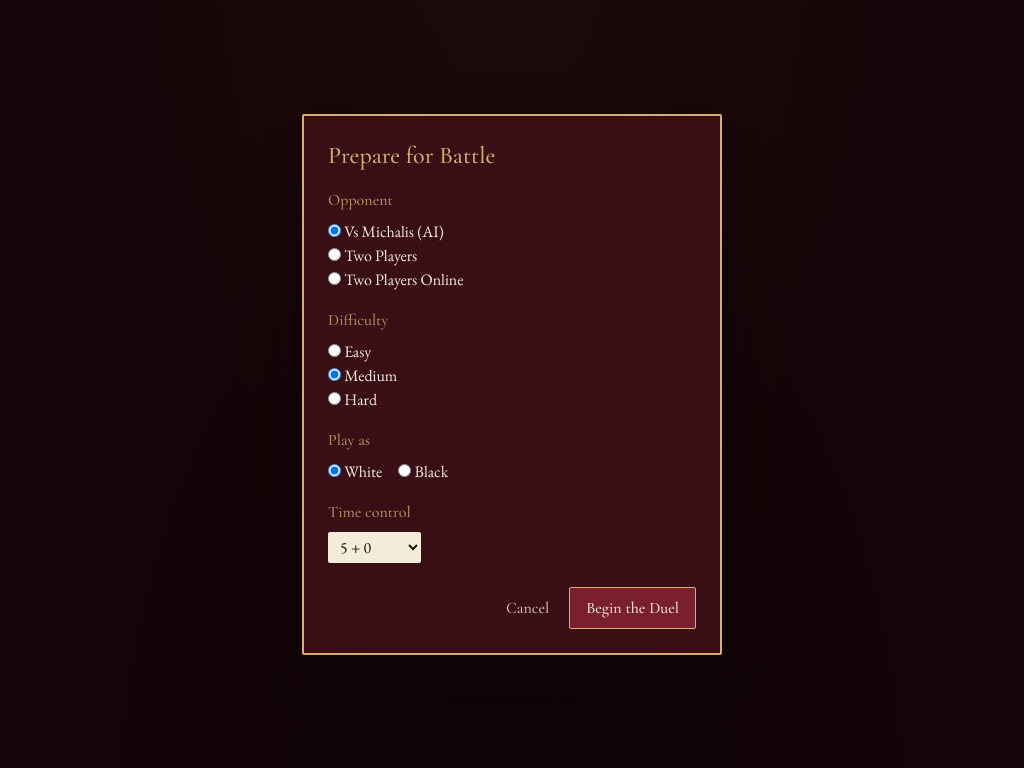
Scenario: SetupModal › shows online sub-form when Two Players Online is selected
The image size is (1024, 768).
Click the radio button labelled "Two Players Online": (334, 278) [328,272,341,284]
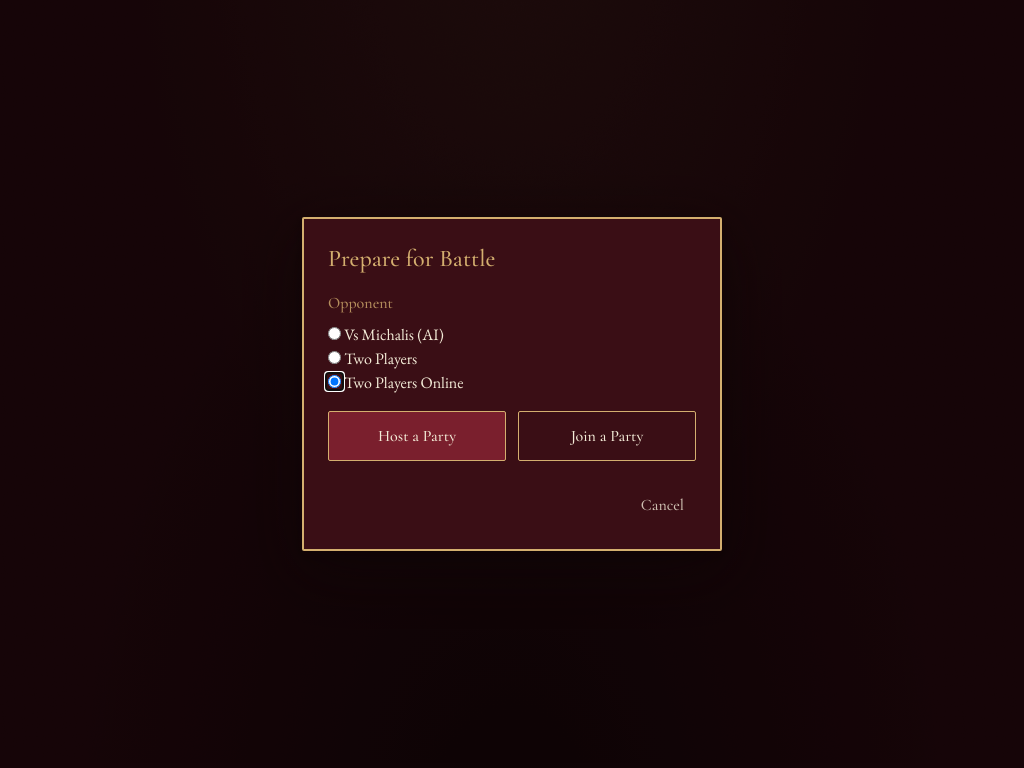
Now the button "Host a Party" is shown, box [328,411,506,461]
Now the button "Join a Party" is shown, box [518,411,696,461]
